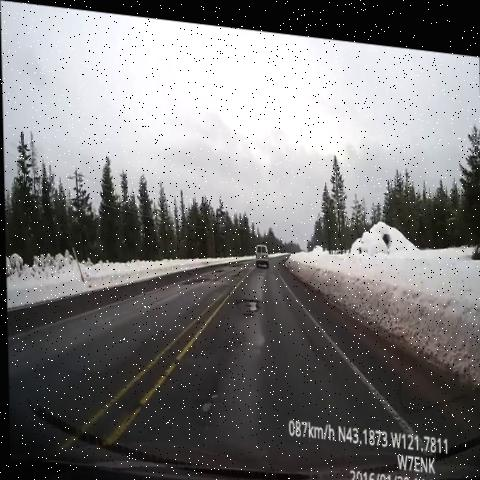pothole: (229, 277, 266, 320), (194, 375, 224, 421)
